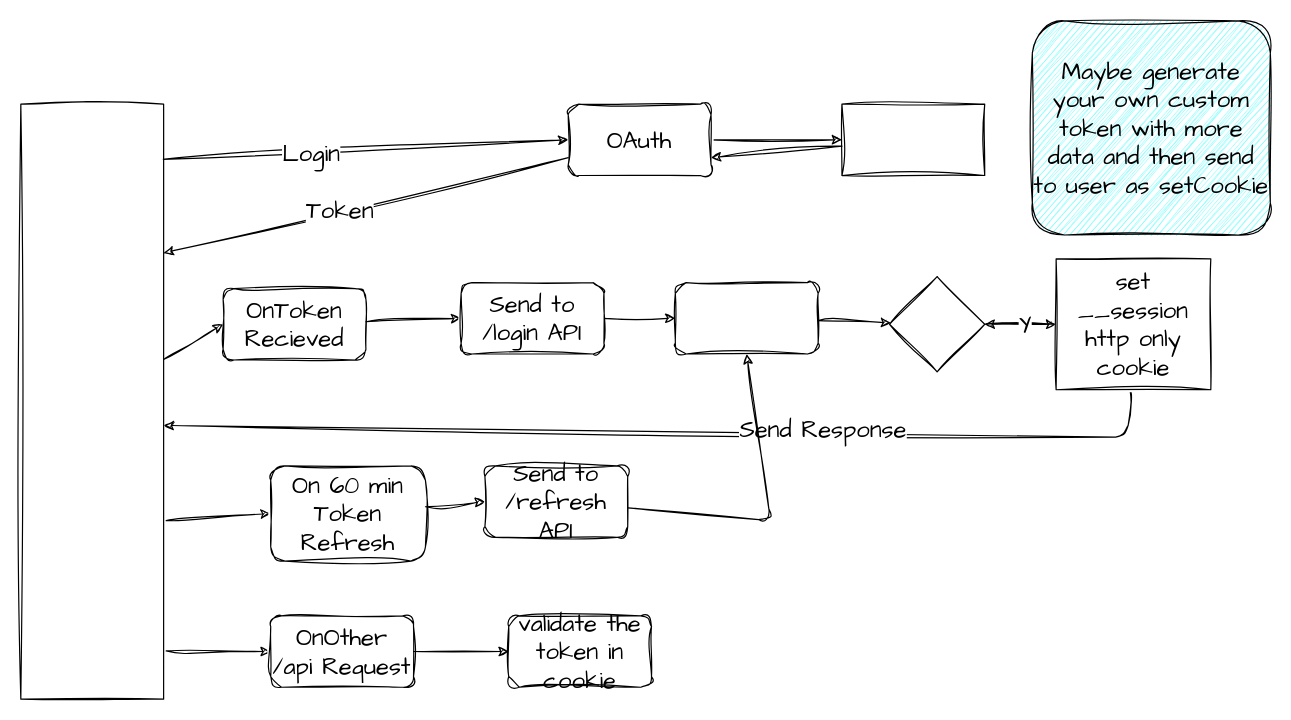
Some shapes in this 1291 by 720 pixel diagram are drawn without their labels. The shapes that lost their labels are listed below. From the top down, each one's centre as x and y in pixels, then its label:
At point (913, 139): "Provider".
At point (746, 317): "Validate Token".
At point (936, 323): "Valid".
At point (92, 401): "User".
